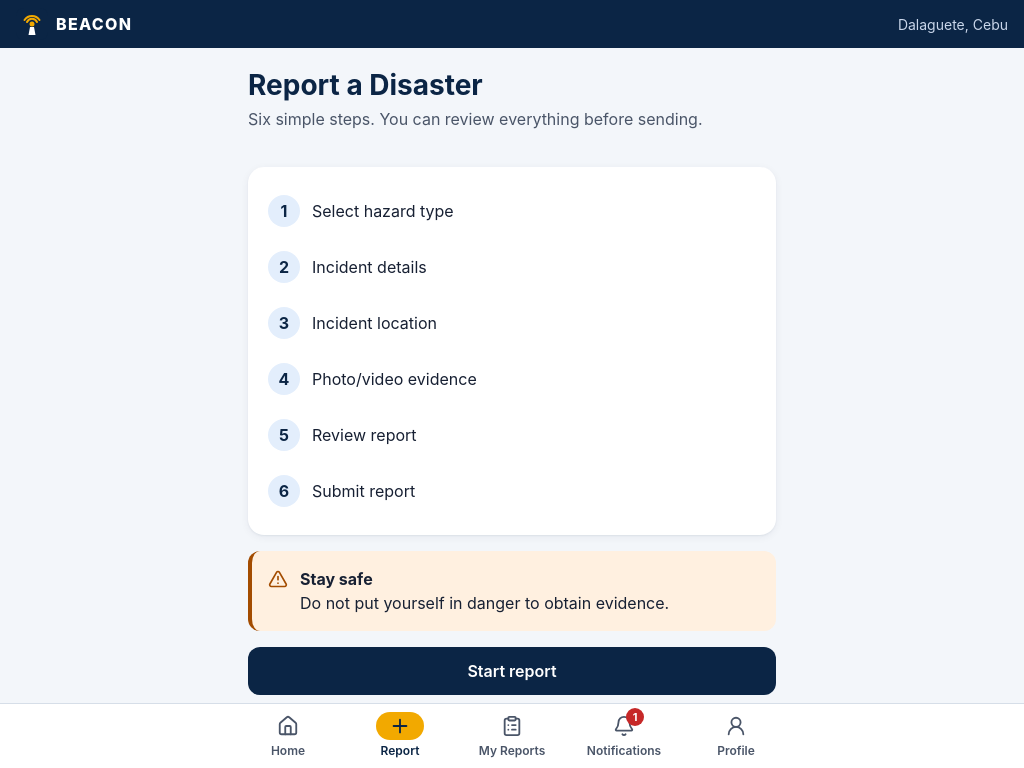
it: step 1: hazard › shows the hazard types from the API with progress
Click the button "Start report" at (512, 671), box [248,647,776,695]
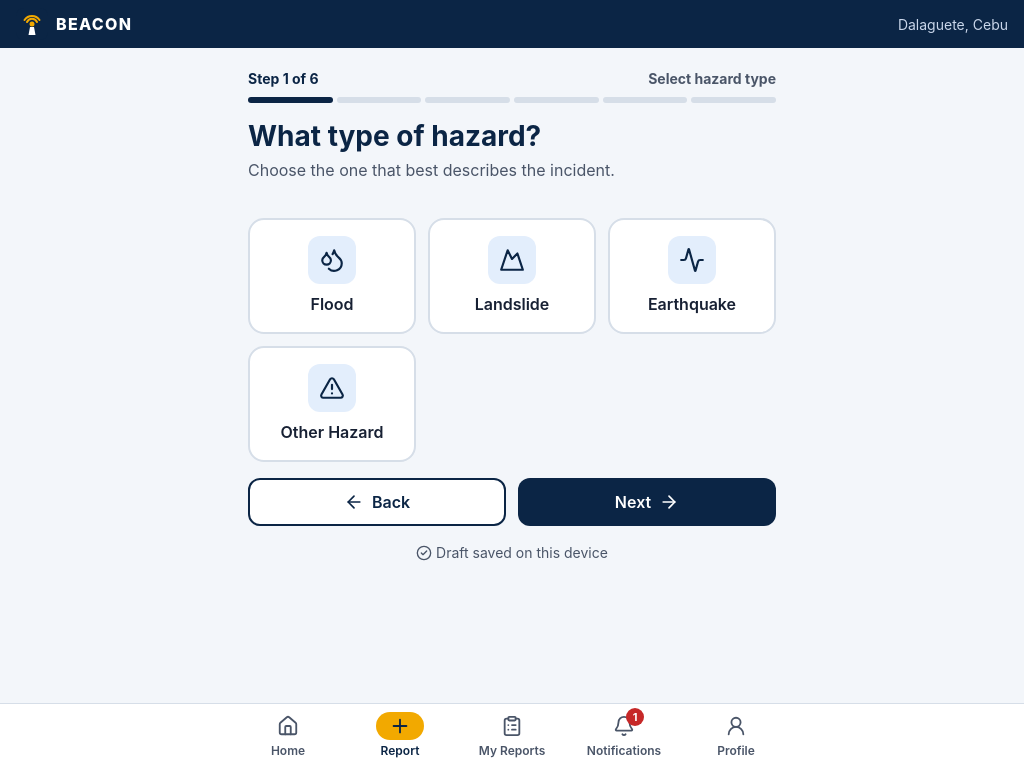
Now the heading "What type of hazard?" is shown, box [248,119,541,153]
Now the radio button labelled "Landslide" is shown, box [428,218,596,334]
Now the radio button labelled "Other Hazard" is shown, box [248,346,416,462]
